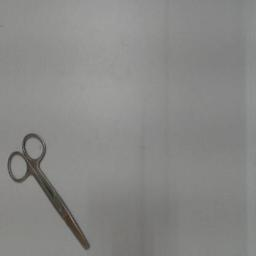Dressing Scissors: (2, 124, 94, 254)
